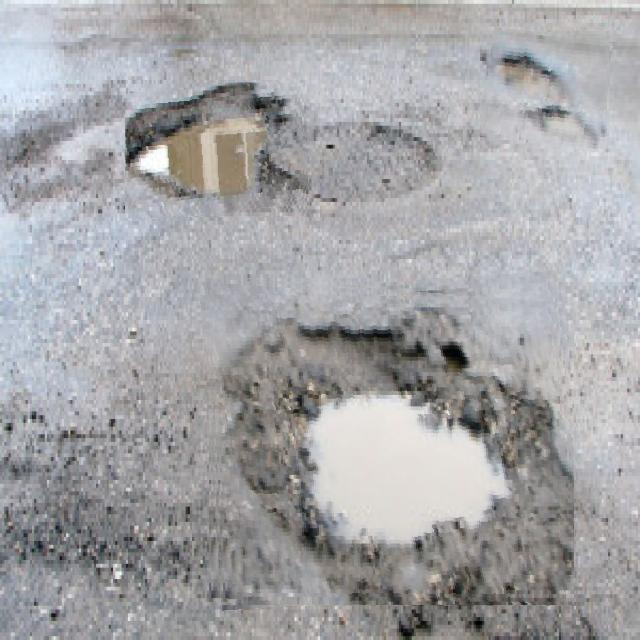Pothole: (206, 276, 574, 605), (125, 82, 308, 218), (483, 31, 609, 148)
